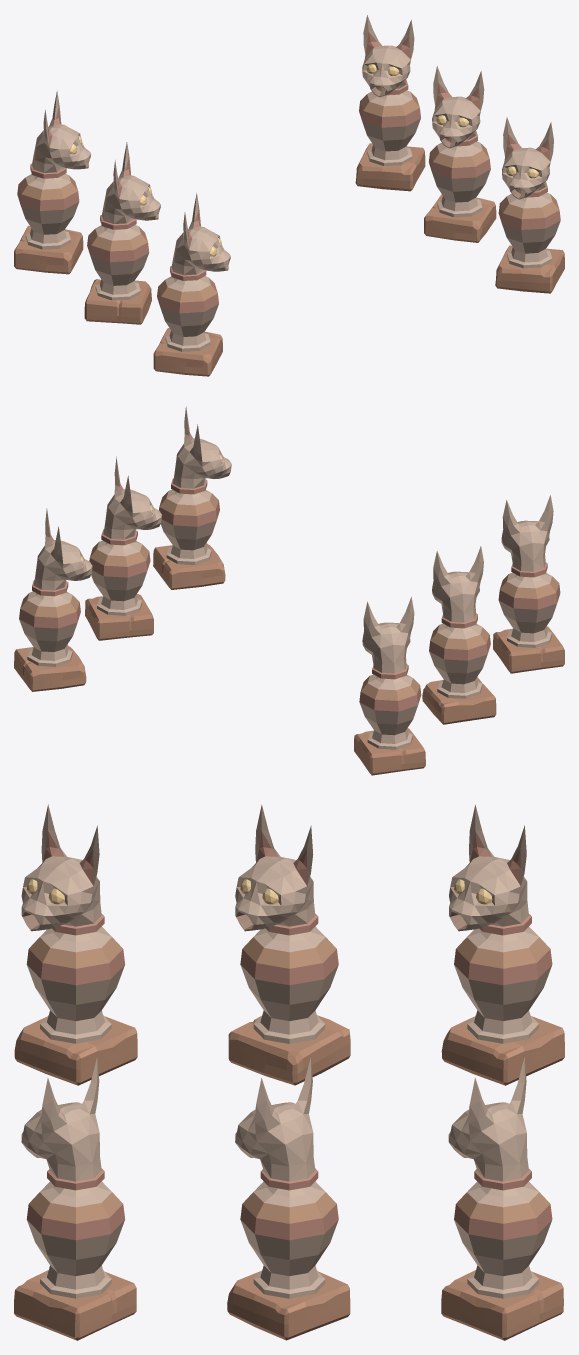
Rendered from buriedTempleGasTrap.fbx.
3 renders of one model, top to bottom at view 1: azimuth 30°, elevation 25°; view 2: azimuth 150°, elevation 25°; view 3: azimuth 270°, elevation 25°, orthographic. The views are drawn at different scales.
Parts seen in each view (by area): view 1: buriedTempleGasTrap; view 2: buriedTempleGasTrap; view 3: buriedTempleGasTrap.
Boxes of the visible parts, x1=… form: buriedTempleGasTrap: x1=14, y1=15, x2=564, y2=376; buriedTempleGasTrap: x1=14, y1=406, x2=564, y2=775; buriedTempleGasTrap: x1=14, y1=804, x2=564, y2=1340.
Size of the model in its own units: 9.06 by 3.41 by 6.88.
Materials: 1 (1 with a texture image).
